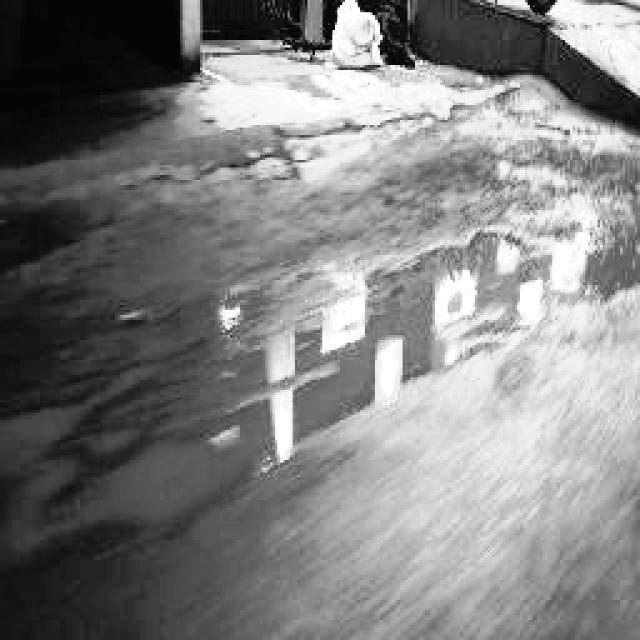Pothole: (0, 223, 638, 579)
